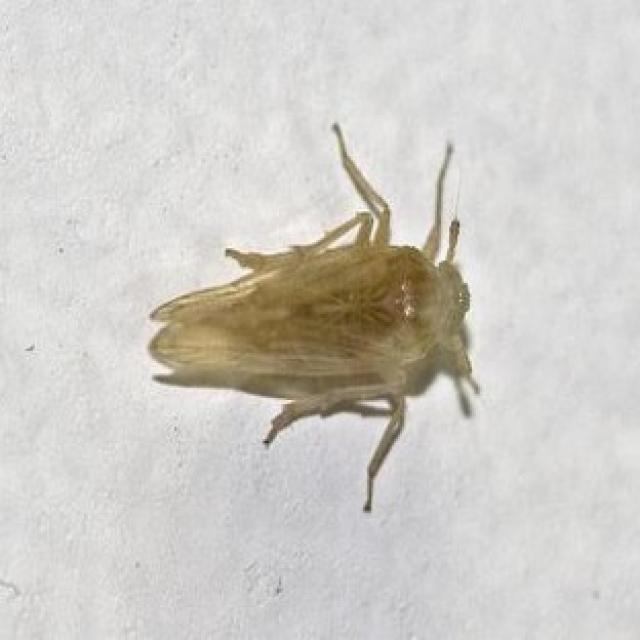brown plant hopper: (148, 123, 478, 511)
